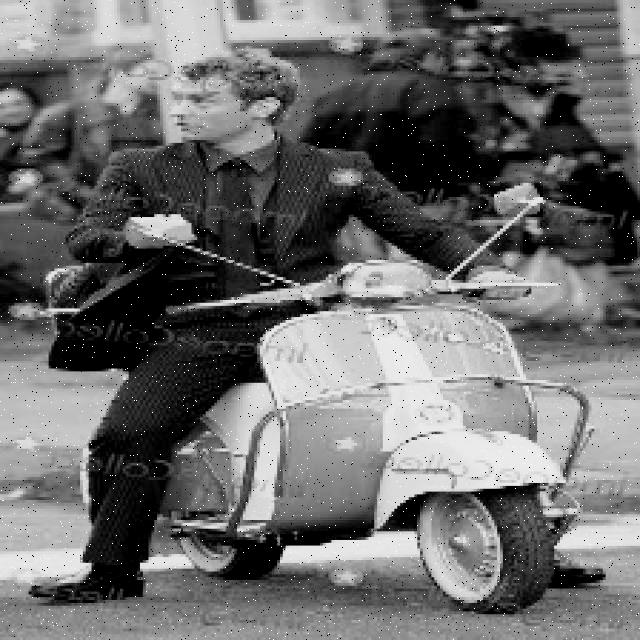Bike: (180, 280, 608, 614)
